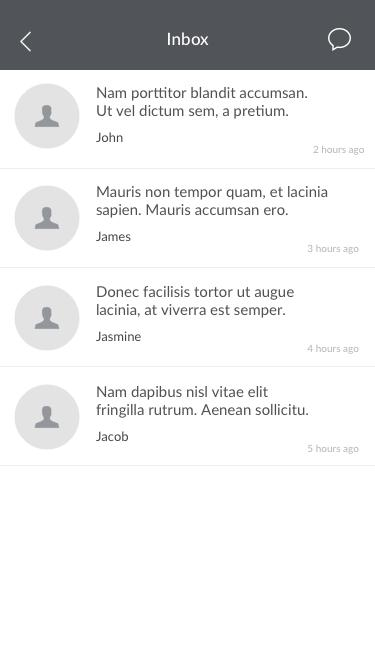Icon: (15, 84, 80, 149), (16, 186, 81, 251), (15, 286, 80, 351), (16, 385, 80, 450), (328, 28, 352, 52), (20, 32, 33, 53)
Text: (96, 186, 328, 219), (97, 86, 308, 120), (96, 386, 309, 419), (97, 285, 294, 318), (313, 144, 365, 157), (168, 33, 210, 47), (307, 444, 360, 455), (307, 344, 359, 355), (97, 331, 143, 343), (307, 245, 359, 255), (97, 232, 132, 243), (96, 432, 129, 443), (96, 132, 125, 144)
Toolbar: (2, 1, 375, 71)
